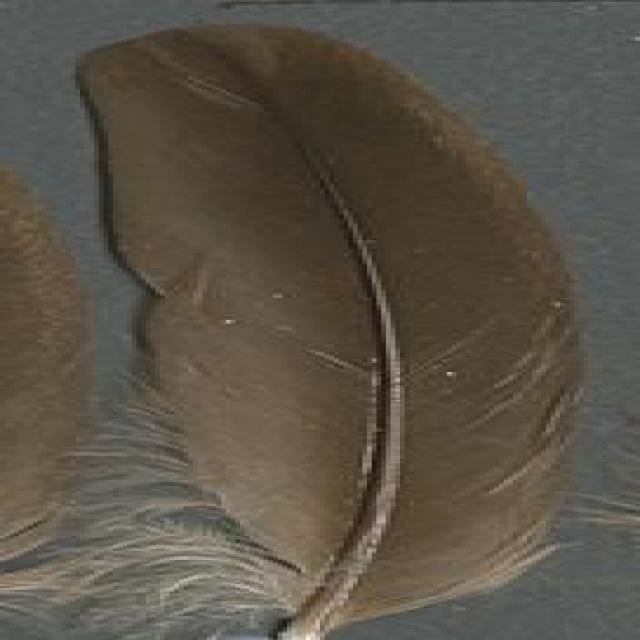feather: (56, 9, 593, 640)
